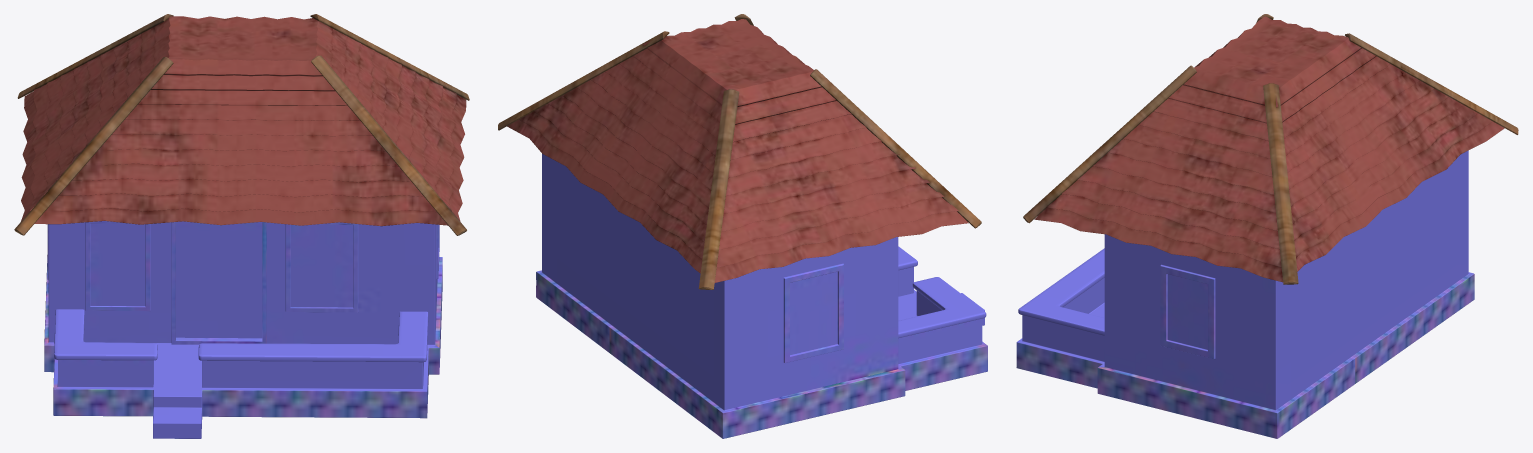
File: House.fbx
3 renders of one model, left to right at view 1: azimuth 30°, elevation 25°; view 2: azimuth 150°, elevation 25°; view 3: azimuth 270°, elevation 25°, orthographic. The views are drawn at different scales.
Parts seen in each view (by area): view 1: Roof, Base; view 2: Roof, Base; view 3: Roof, Base.
Boxes of the visible parts, x1=… form: Roof: x1=14, y1=14, x2=469, y2=235; Base: x1=44, y1=221, x2=442, y2=438; Roof: x1=498, y1=14, x2=981, y2=289; Base: x1=536, y1=154, x2=987, y2=438; Roof: x1=1023, y1=14, x2=1518, y2=284; Base: x1=1016, y1=150, x2=1474, y2=438.
Size of the model in its own units: 144 by 87.88 by 136.
